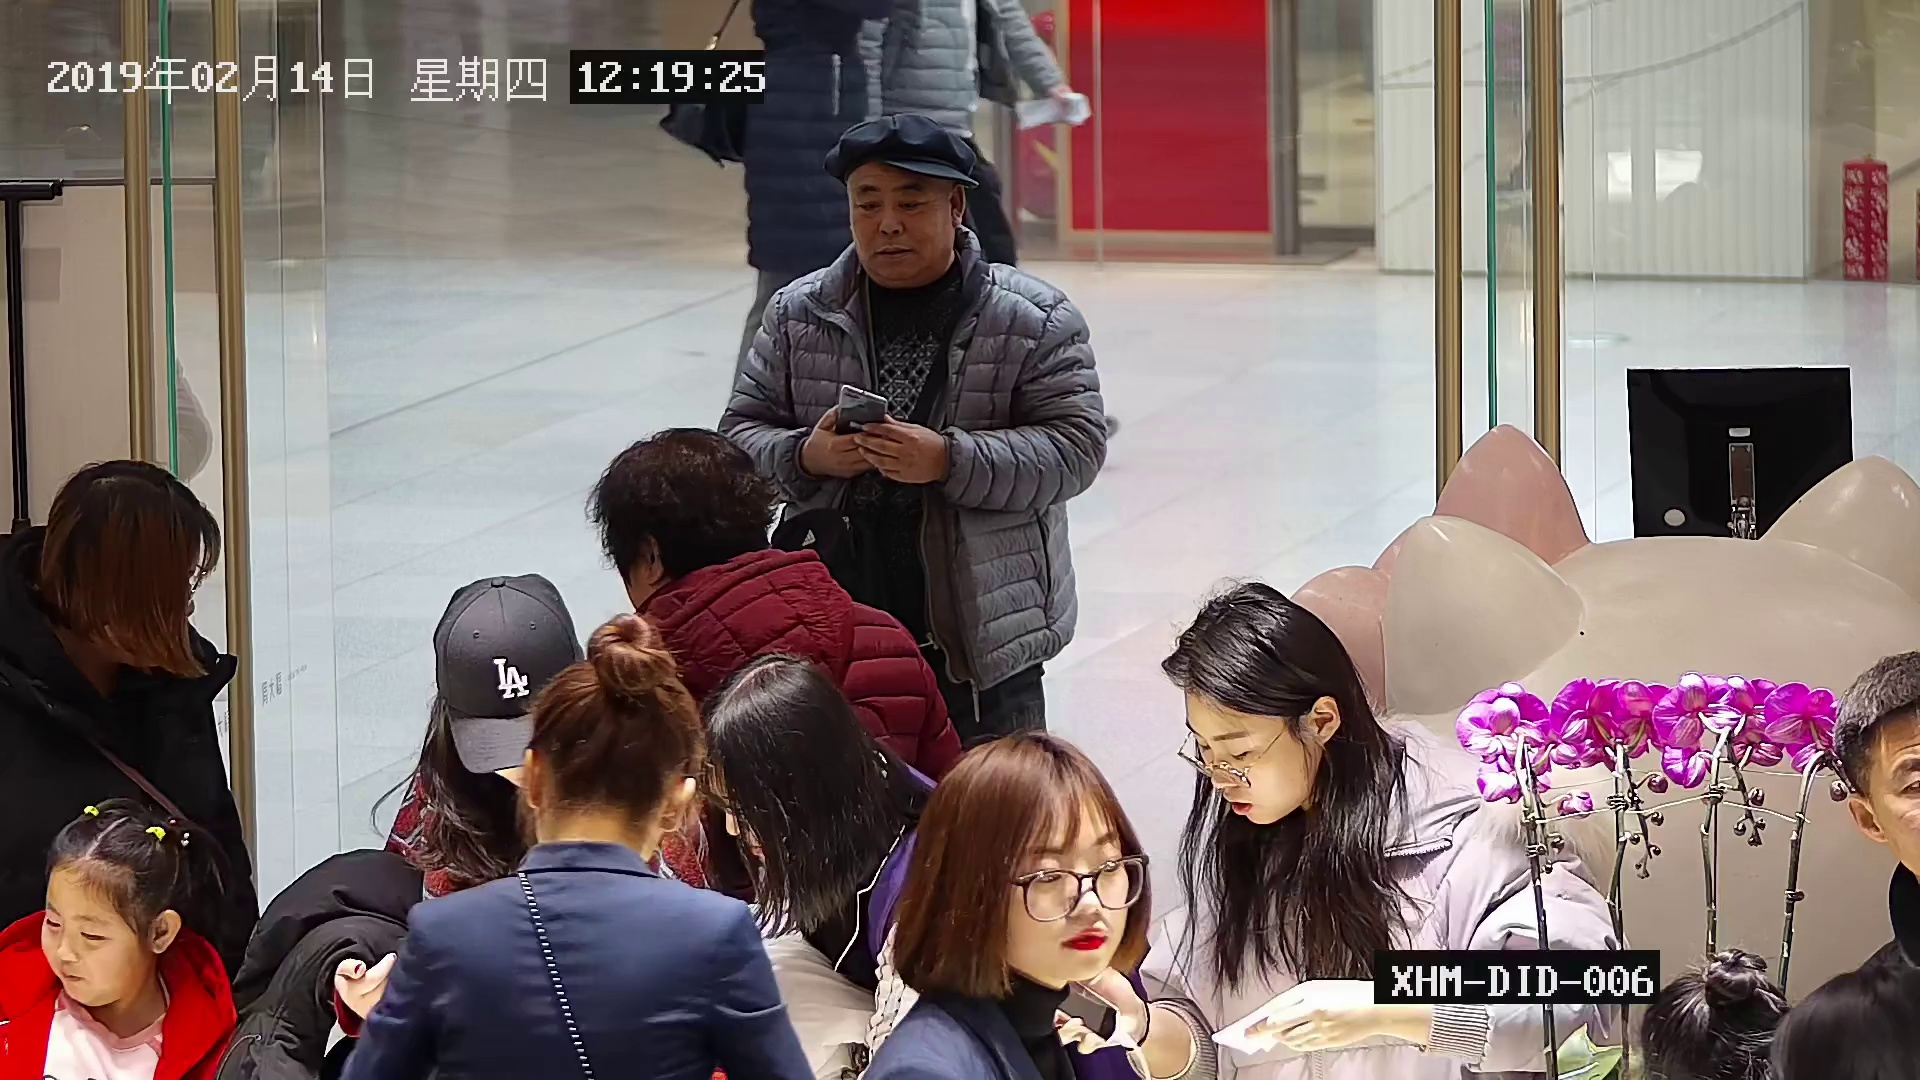head: (932, 730, 1129, 979), (698, 654, 875, 879), (1180, 580, 1343, 827), (518, 658, 695, 867), (432, 566, 583, 805), (596, 426, 763, 623), (48, 454, 197, 661), (42, 798, 183, 1007), (1828, 644, 1915, 893), (838, 126, 965, 285), (1639, 968, 1800, 1077)
